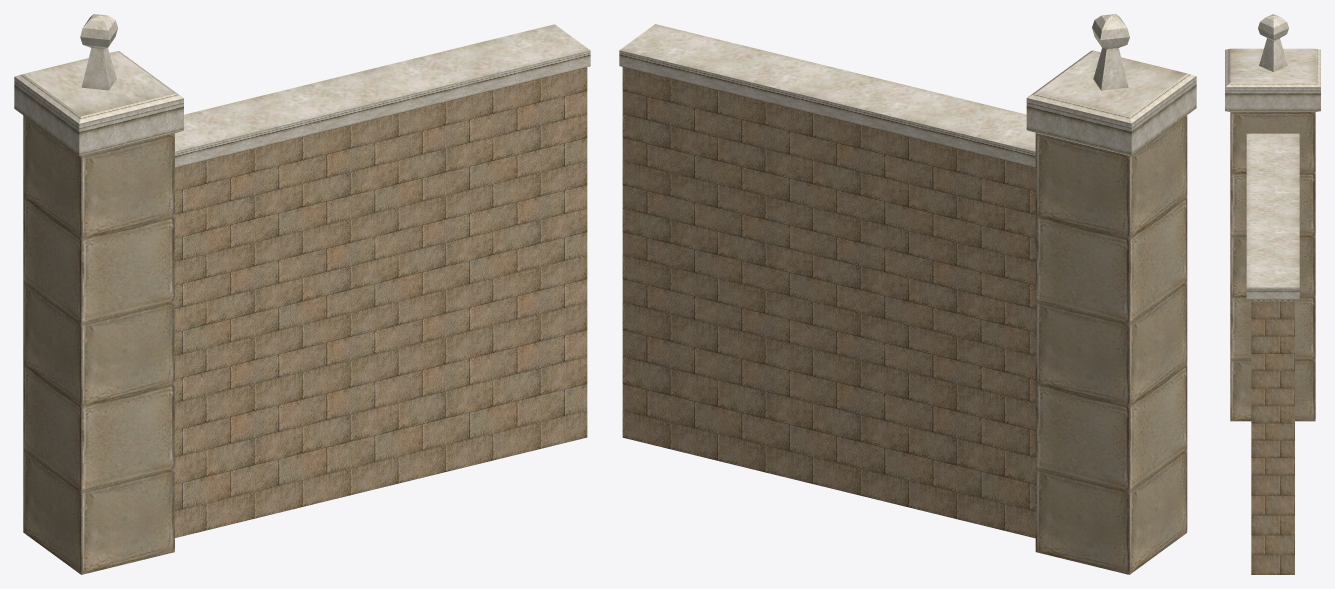
File: thm_nboo_thed_imprv_wallendpiece_s01_l1.fbx
3 renders of one model, left to right at view 1: azimuth 30°, elevation 25°; view 2: azimuth 150°, elevation 25°; view 3: azimuth 270°, elevation 25°, orthographic. The views are drawn at different scales.
Parts seen in each view (by area): view 1: mesh_node; view 2: mesh_node; view 3: mesh_node.
Part boxes in pixels (left/top/right/bottom): mesh_node: left=14, top=14, right=590, bottom=574; mesh_node: left=619, top=14, right=1196, bottom=574; mesh_node: left=1225, top=14, right=1320, bottom=574.
Size of the model in its own units: 11.41 by 10.91 by 2.43.
Materials: 1 (1 with a texture image).
